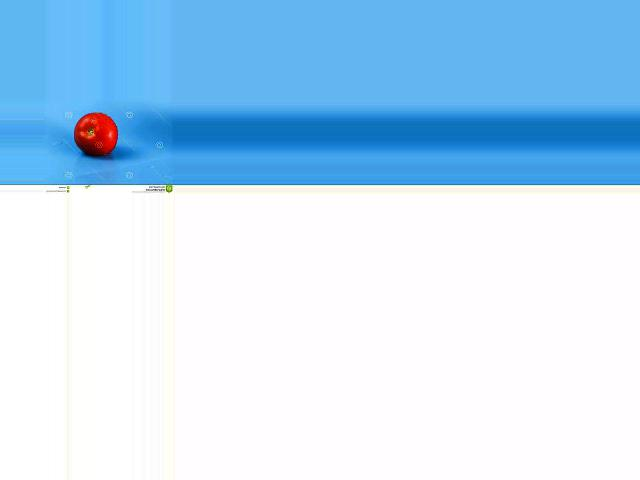tomato: (73, 113, 117, 155)
